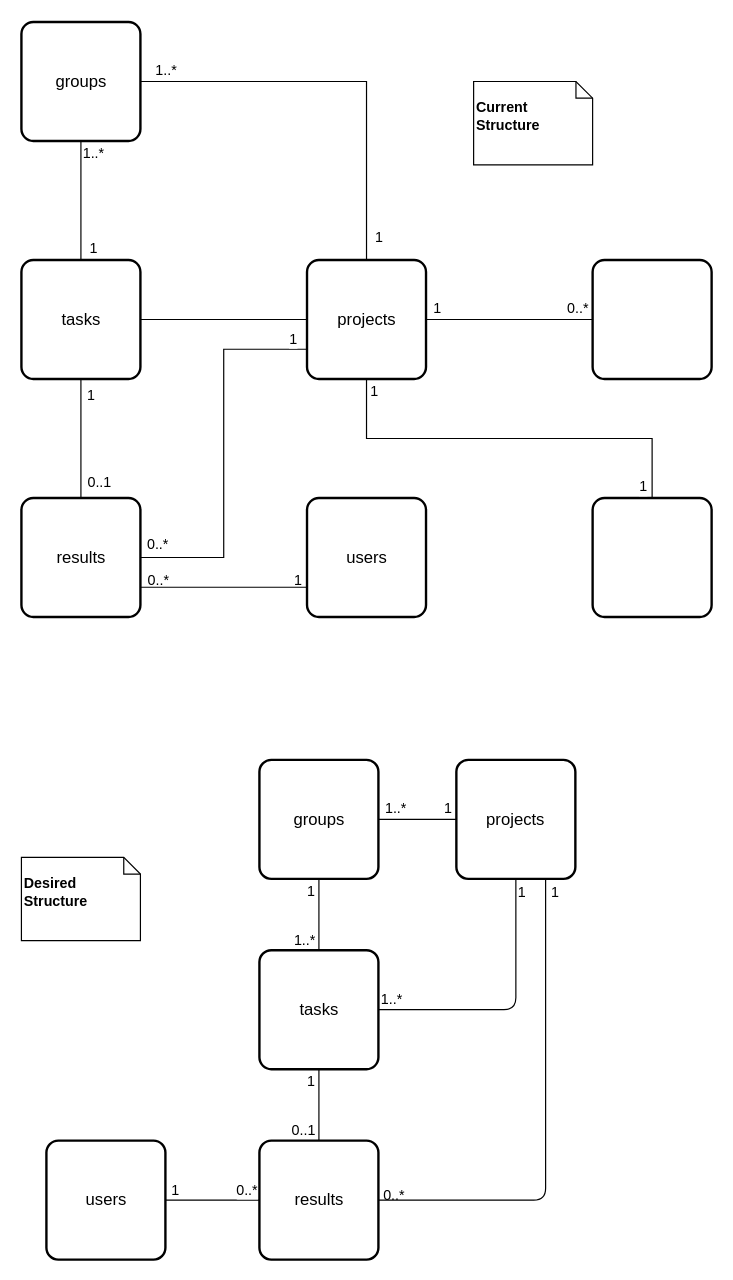
Image size: 733x1280. Some labels were removed from this diagram. The shapes that lost their labels are listed below. From the top down, each one's box as (x1, y1, x2, y2) in pixels, then its label:
(591, 258, 712, 380): progress
(591, 496, 712, 618): imports
